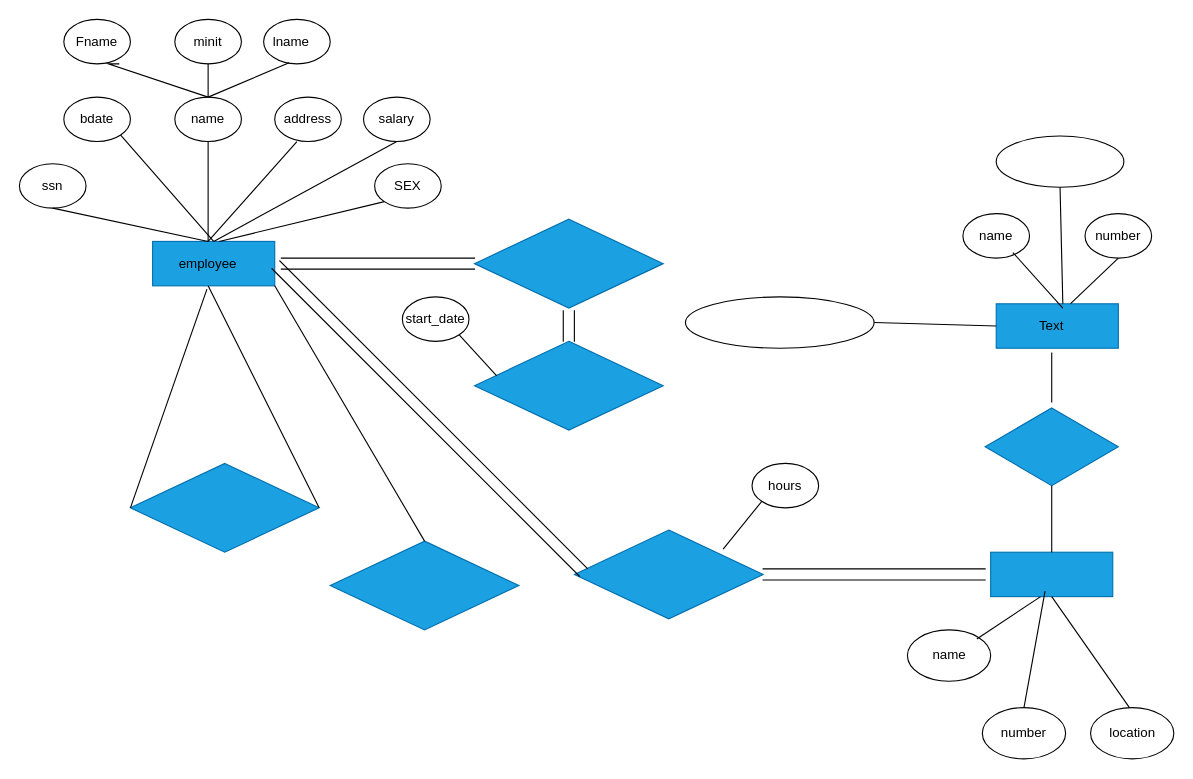
The diagram is 1193 pixels wide and 779 high, and some of its shapes have lost their labels. Each missing label, with the centre of its shape:
controls: the point at 1051,446
dependents_of: the point at 424,585
locations: the point at 1059,161
manages: the point at 568,385
number_of_employees: the point at 779,322
project: the point at 1051,574
supervision: the point at 224,507
works_for: the point at 568,263
works_on: the point at 668,574
